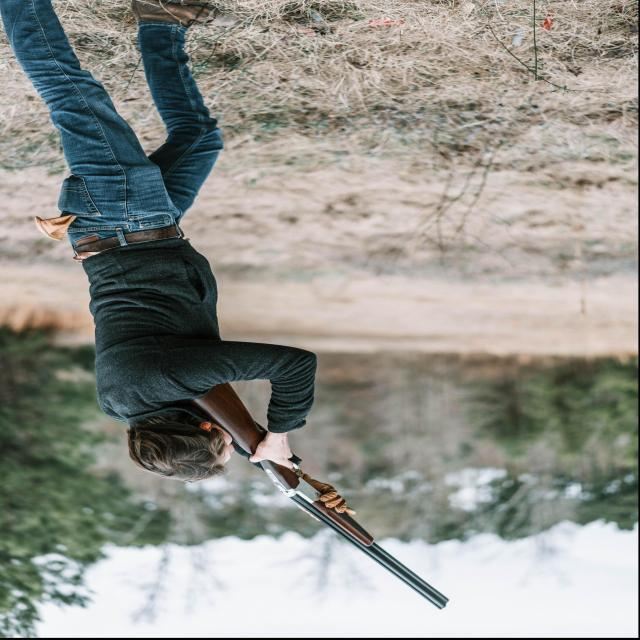weapon: (195, 382, 450, 612)
